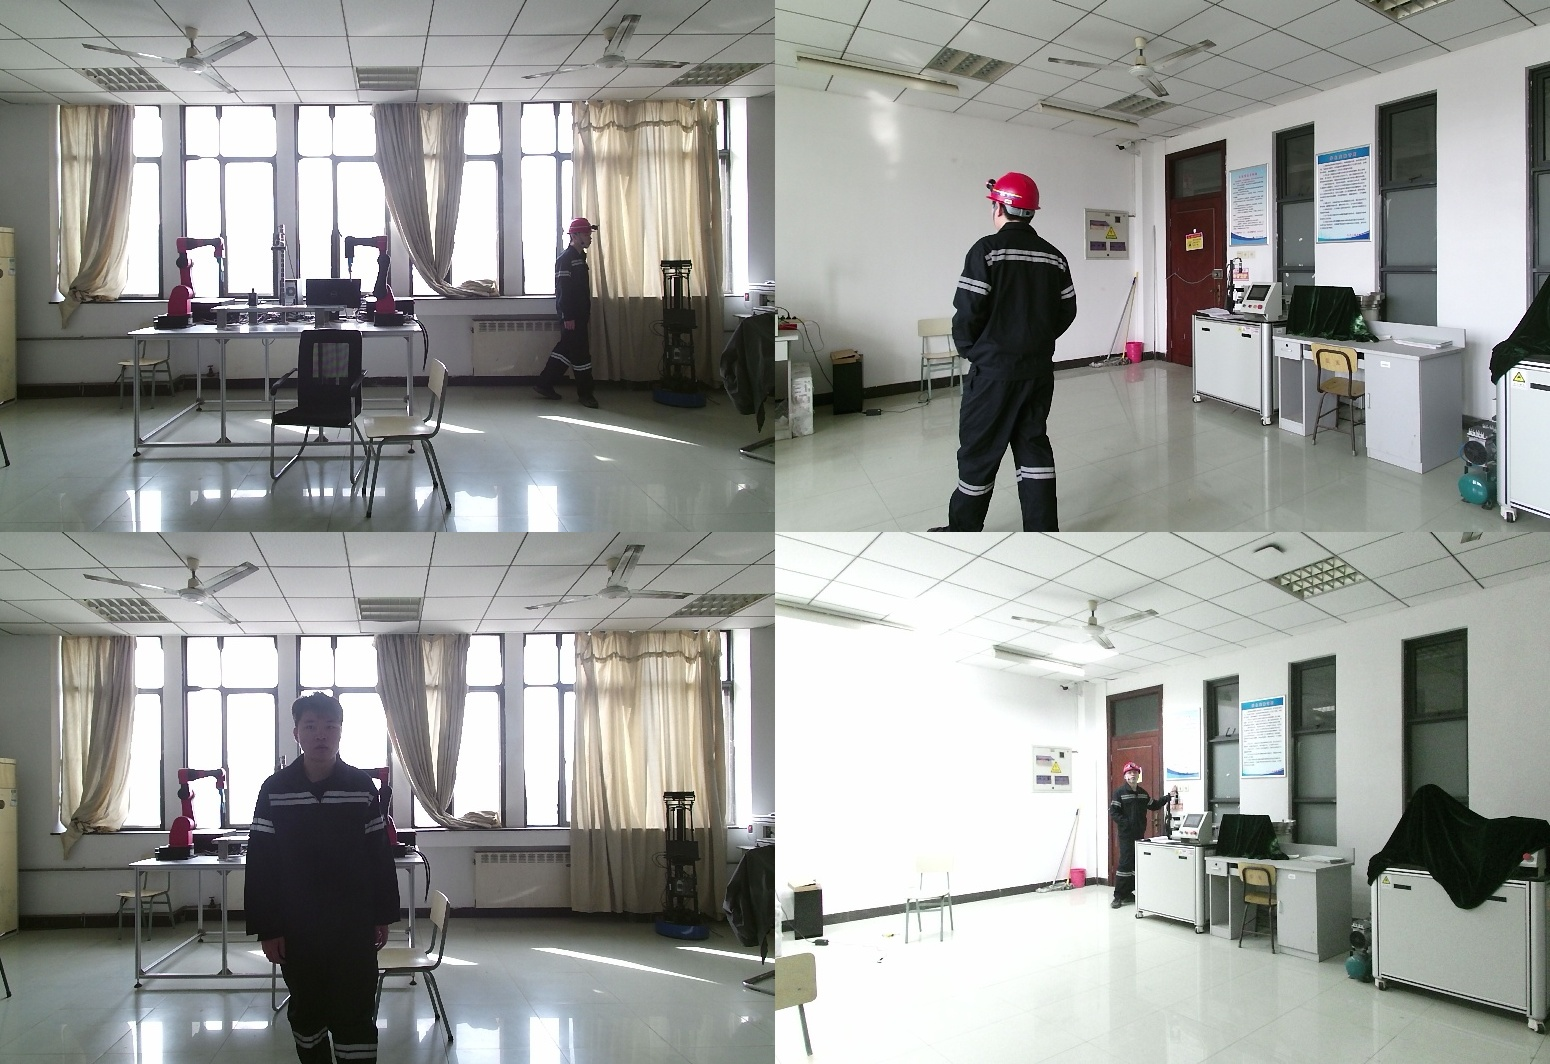person: (927, 172, 1094, 532), (251, 697, 404, 1064), (538, 217, 604, 411), (1107, 762, 1170, 908)
